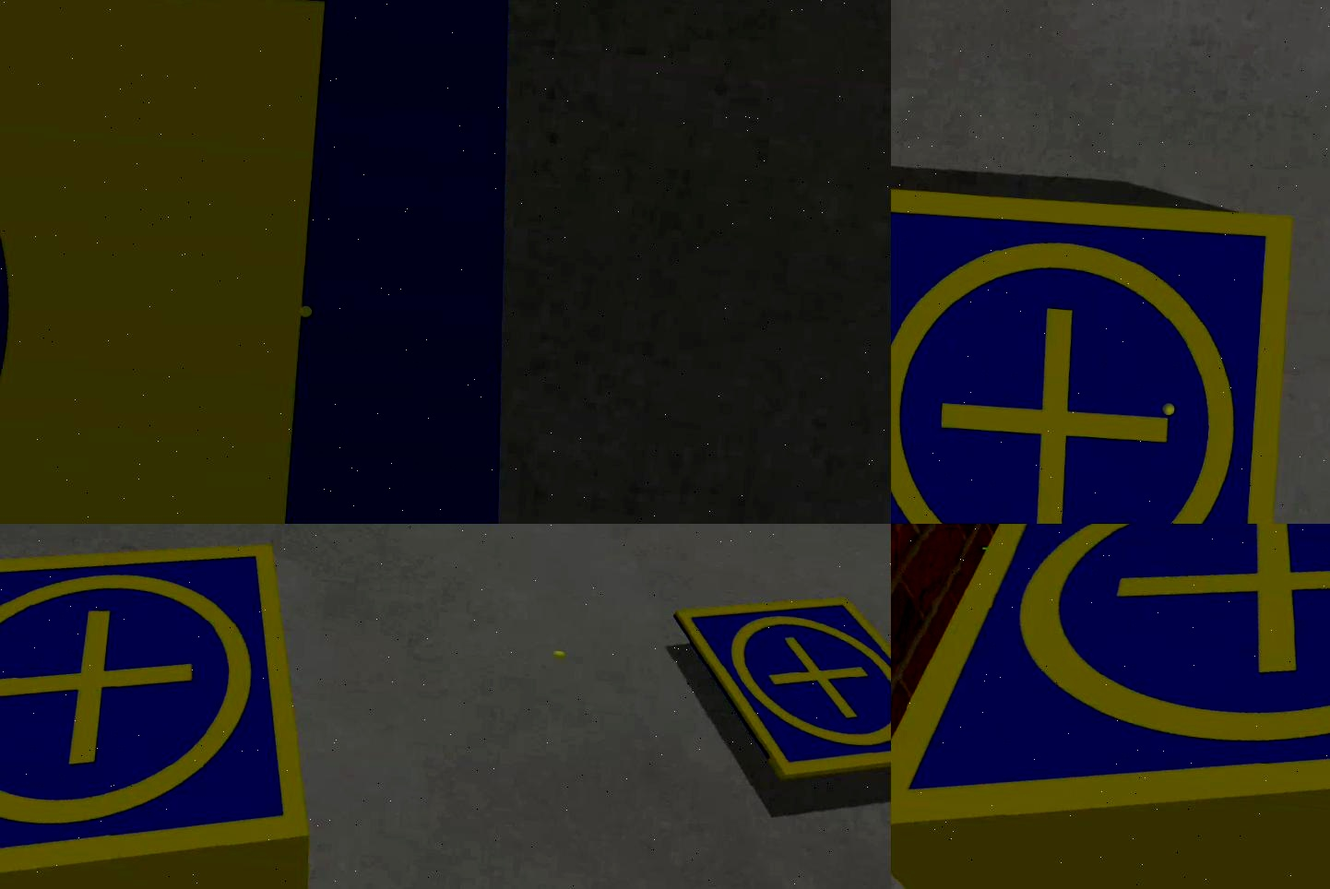large_base: (1, 1, 568, 524)
small_base: (892, 524, 1330, 889), (892, 172, 1302, 524), (1, 524, 338, 889), (664, 586, 892, 797)
